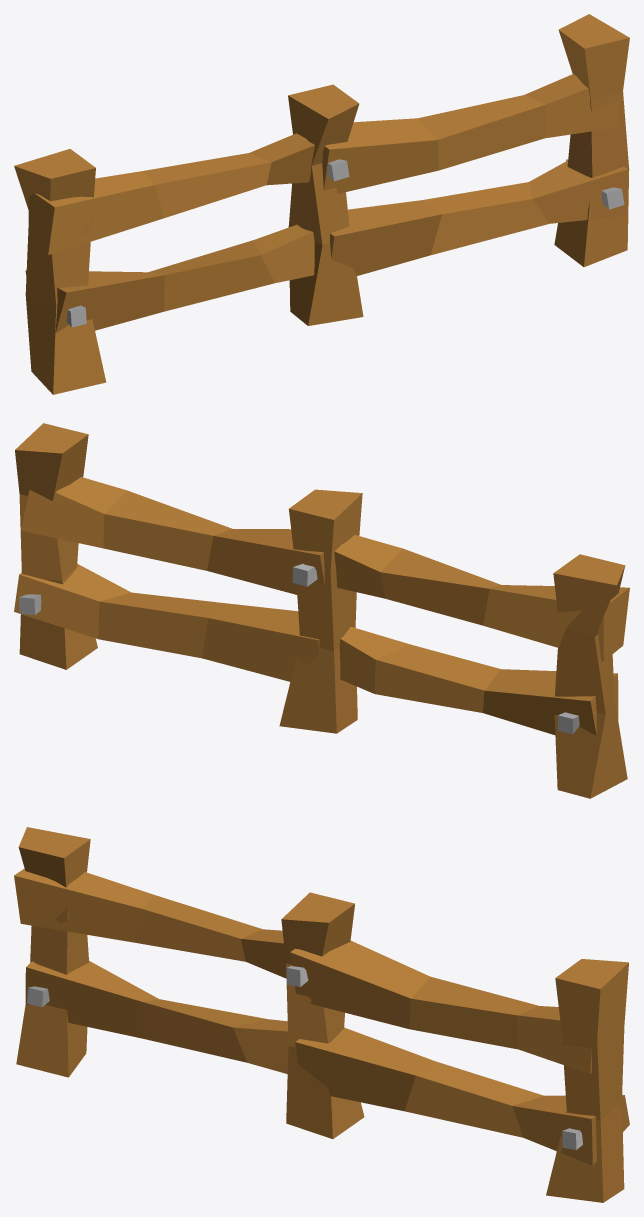
The model's file is low_poly_fence.glb.
The picture shows the model from 3 angles, top to bottom: view 1: azimuth 30°, elevation 25°; view 2: azimuth 150°, elevation 25°; view 3: azimuth 330°, elevation 25°; orthographic projection.
Visible parts, largest first — view 1: Cube.012; view 2: Cube.012; view 3: Cube.012.
Part boxes in pixels (box(x1,y1,x2,y2)): Cube.012: box(14, 14, 629, 394); Cube.012: box(14, 423, 629, 798); Cube.012: box(14, 827, 629, 1202).
Size of the model in its own units: 769 by 265 by 106.
1 material, 1 textured.
